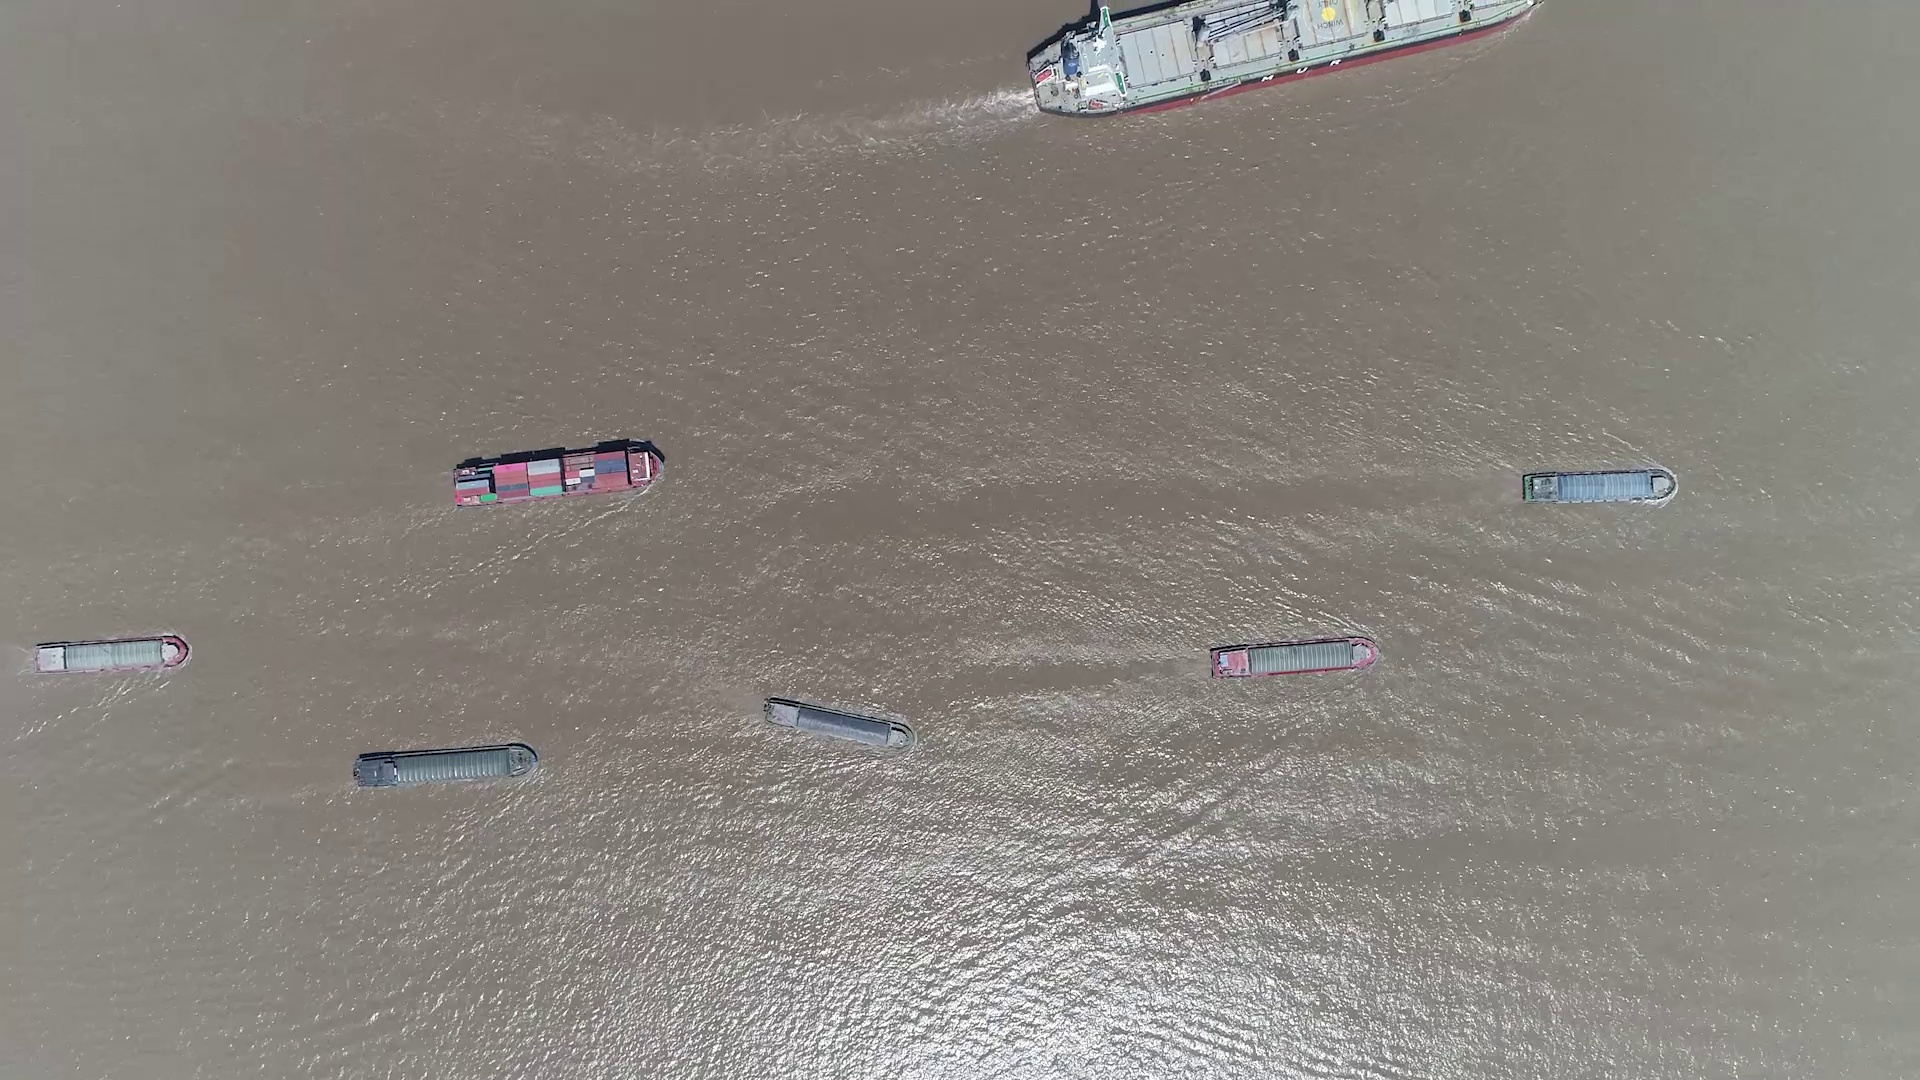ship: (1025, 1, 1542, 119), (451, 442, 665, 506), (353, 742, 538, 789), (764, 696, 915, 752), (1211, 636, 1379, 676), (33, 636, 190, 674), (1520, 469, 1675, 502)
